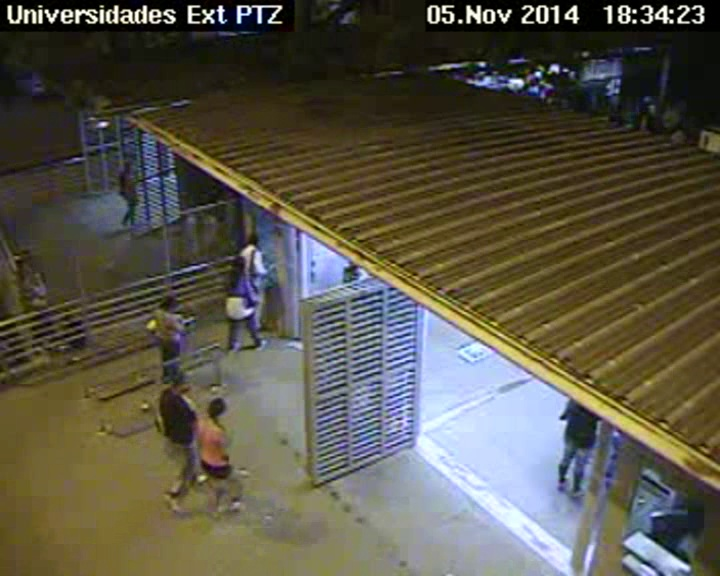person: (164, 365, 188, 391), (206, 397, 227, 419), (160, 293, 179, 314), (232, 254, 250, 273), (243, 229, 260, 247), (120, 159, 135, 172), (28, 272, 42, 284), (15, 260, 27, 272), (19, 250, 32, 260), (198, 206, 209, 216), (184, 207, 194, 217)
